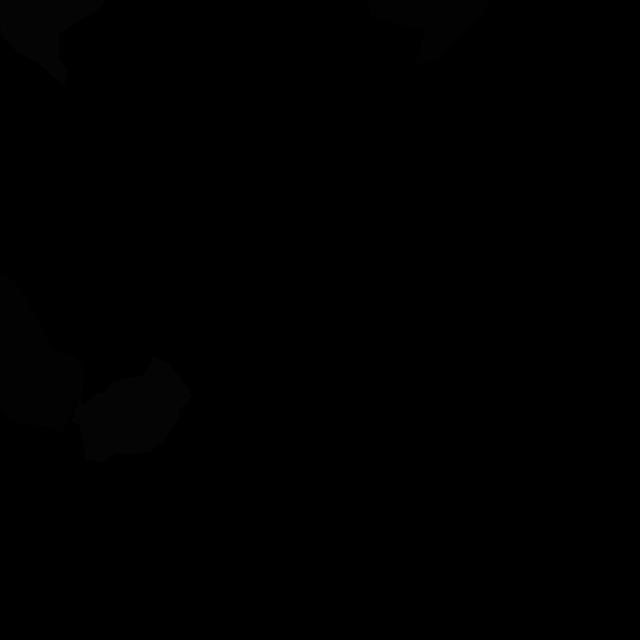cardboard: (0, 269, 84, 435), (366, 0, 488, 65)
soft_plastic: (72, 355, 192, 462), (0, 0, 106, 87)
